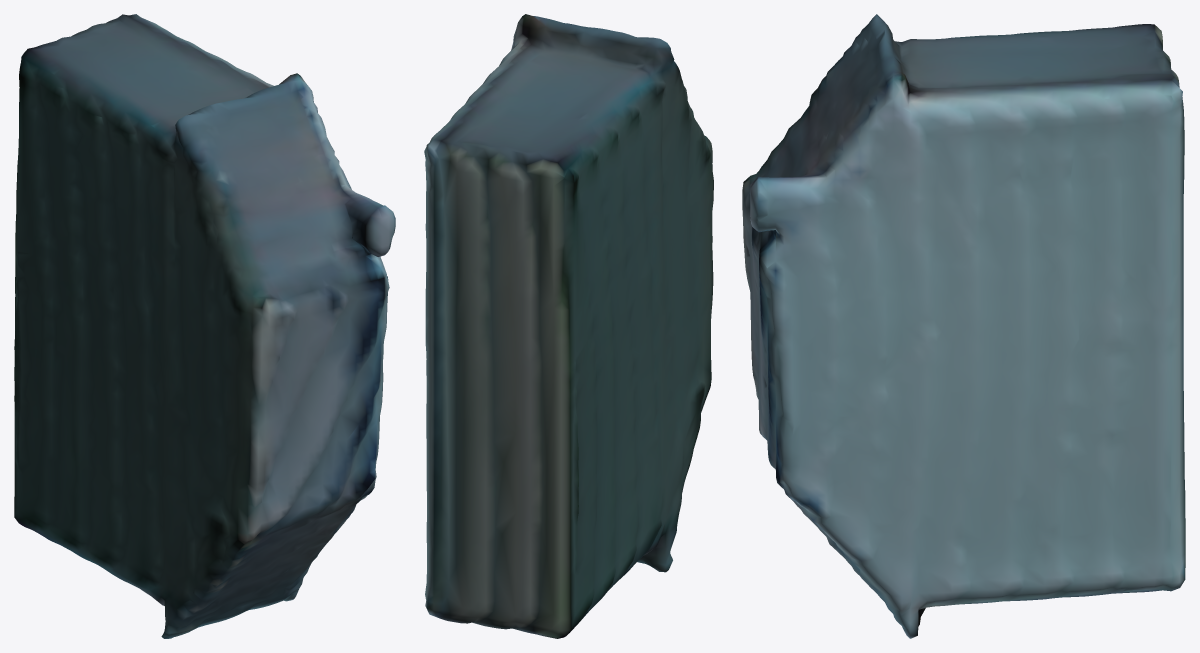
The model's file is street_asset_game.glb.
3 views of the same model, side by side, from view 1: azimuth 30°, elevation 25°; view 2: azimuth 150°, elevation 25°; view 3: azimuth 270°, elevation 25° (orthographic). The views are drawn at different scales.
Visible parts, largest first — view 1: street_asset; view 2: street_asset; view 3: street_asset.
Part boxes in pixels (box(x1,y1,x2,y2)): street_asset: box(14, 14, 395, 638); street_asset: box(424, 14, 713, 638); street_asset: box(742, 14, 1185, 638).
Bounding box in the file's own units: 0.3997 × 1.01 × 0.7215.
